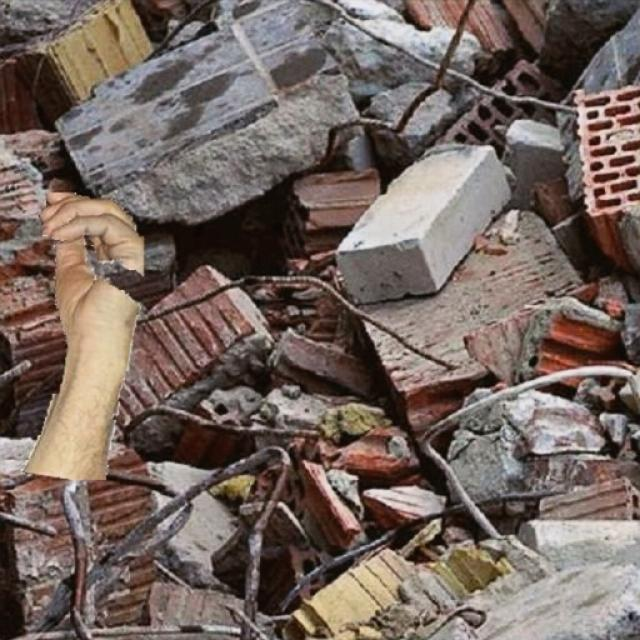Person in Rubble: (21, 192, 142, 478)
